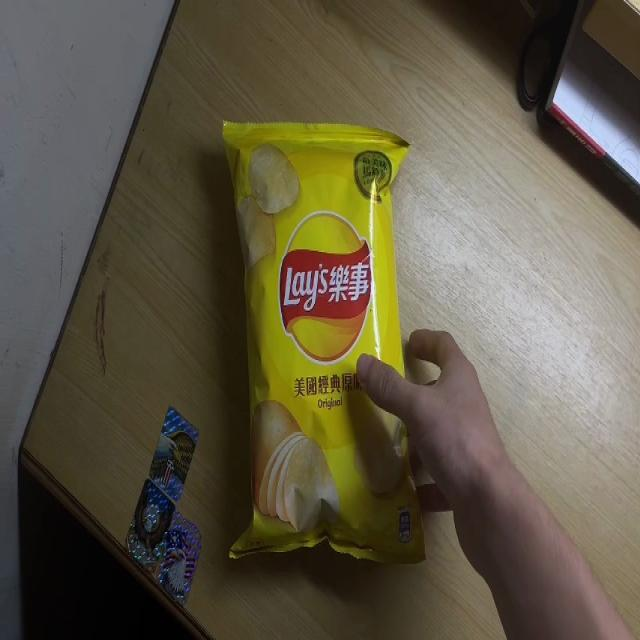Lay-s-original: (220, 116, 426, 564)
